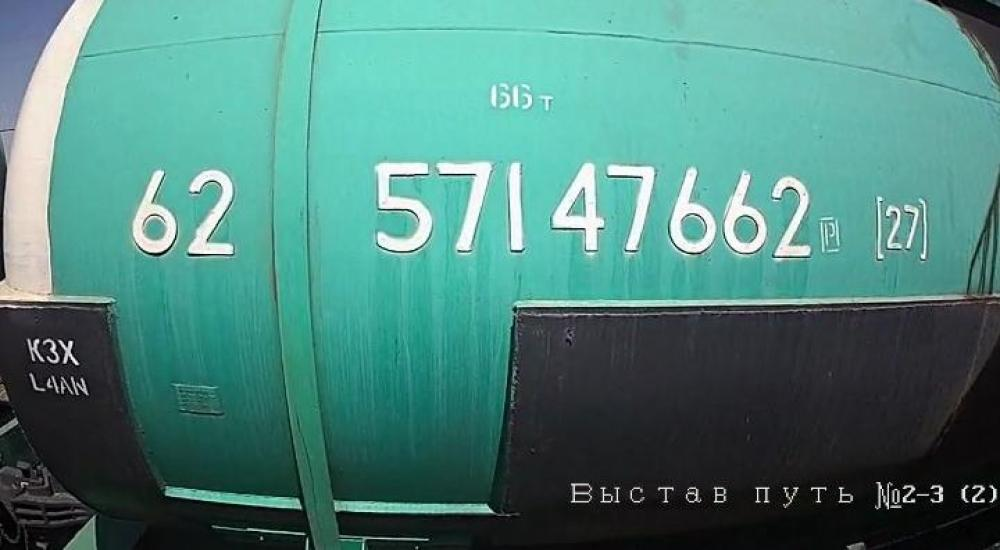Wagon-number: (373, 157, 817, 265)
